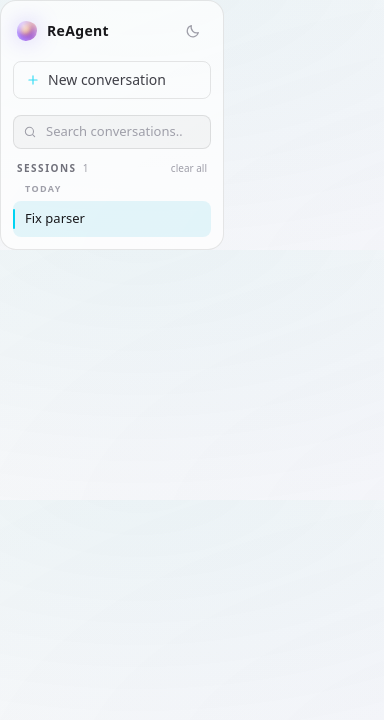
Test: Sidebar search › shows an inline error message when the search fails, without crashing
Type "err" into the field labelled "Search conversations" at (112, 132), box x1=13 y1=115 x2=211 y2=148
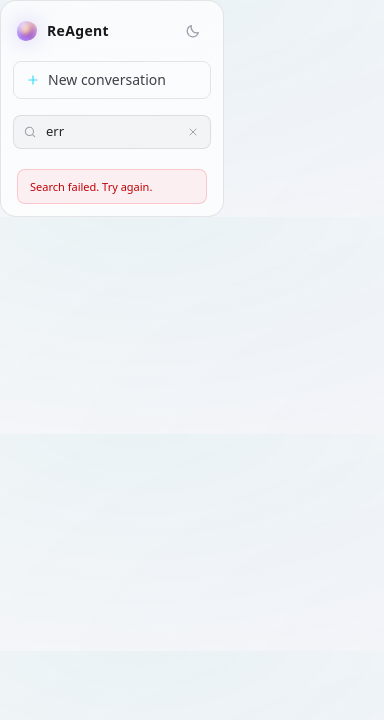
Expected: the text "Search failed. Try again." is shown, x1=17 y1=168 x2=207 y2=204
